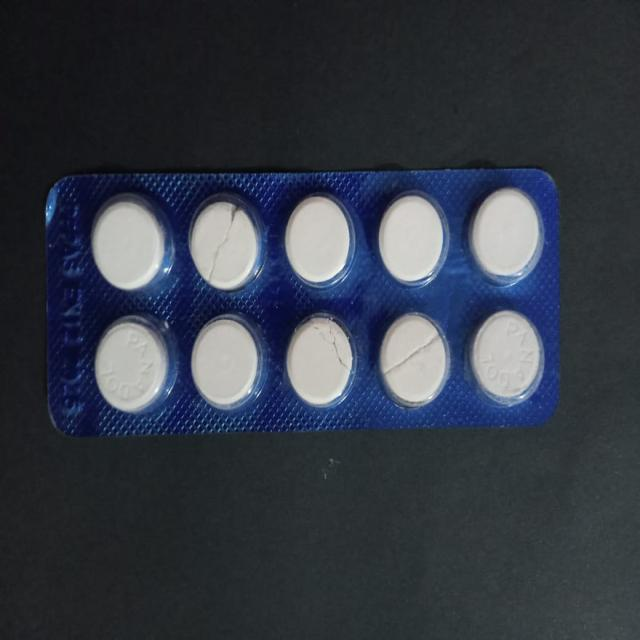defect: (184, 192, 263, 294), (377, 310, 453, 408), (284, 313, 360, 410)
